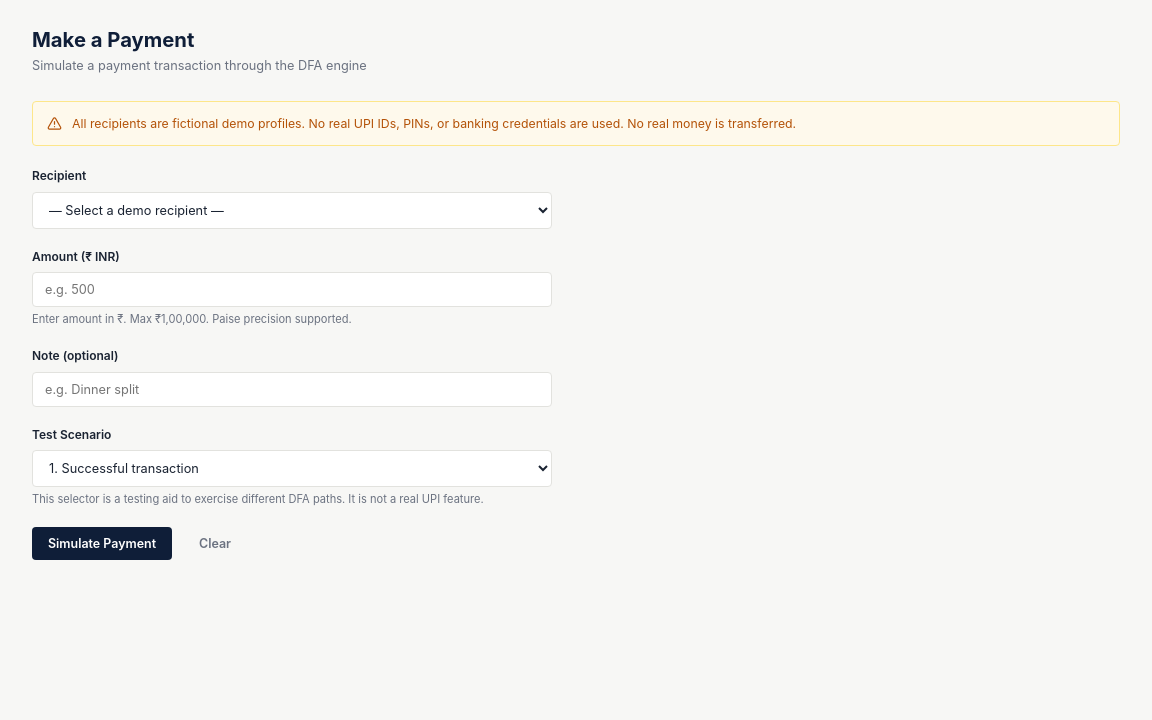
Payment form › shows failure result after failed transaction
Select "Alex Sharma (alex@demo)" in the dropdown labelled "Recipient". click: (292,210)
box: [32,192,552,228]
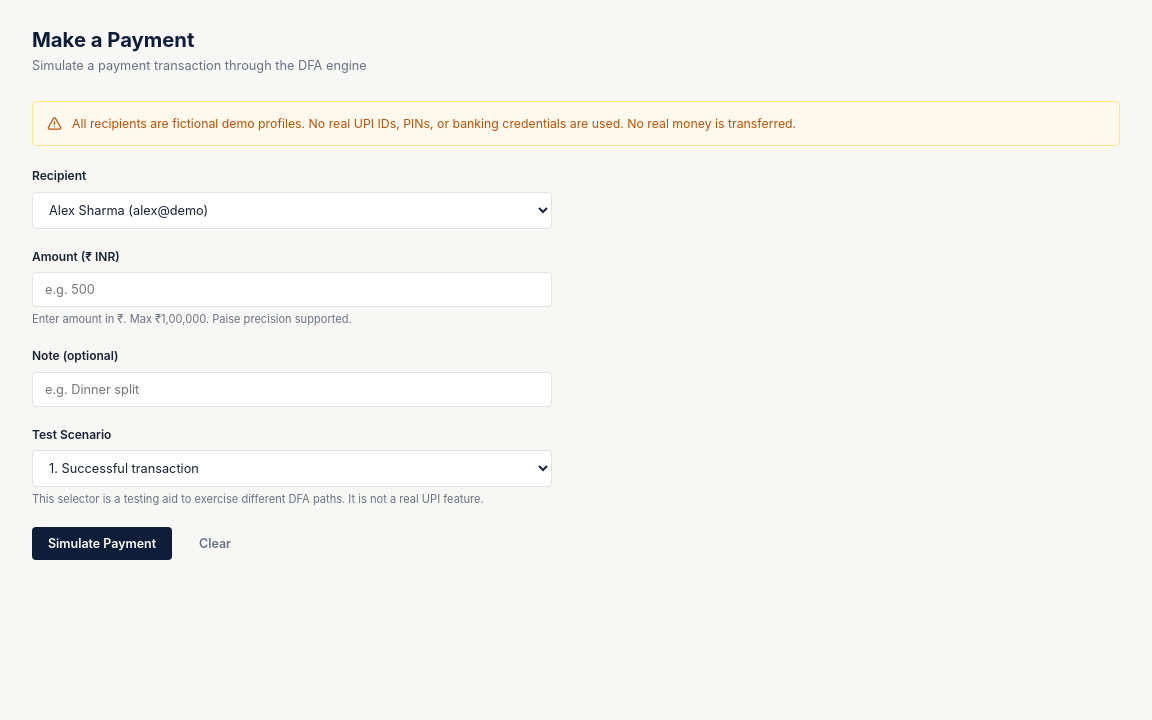
Type "100" into the number field labelled "Amount (₹ INR)". click: (292,289)
box: [32,272,552,307]
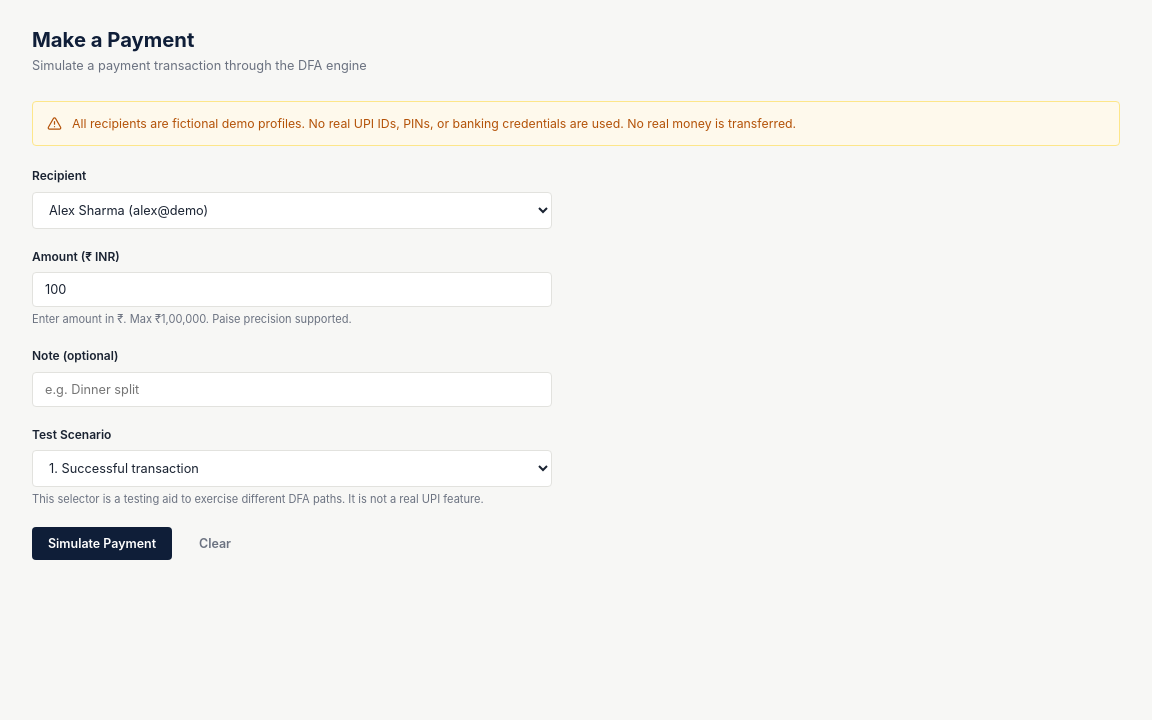
Select "4. Incorrect demo authentication" in the dropdown labelled "Test Scenario". click: (292,468)
box: [32,450,552,487]
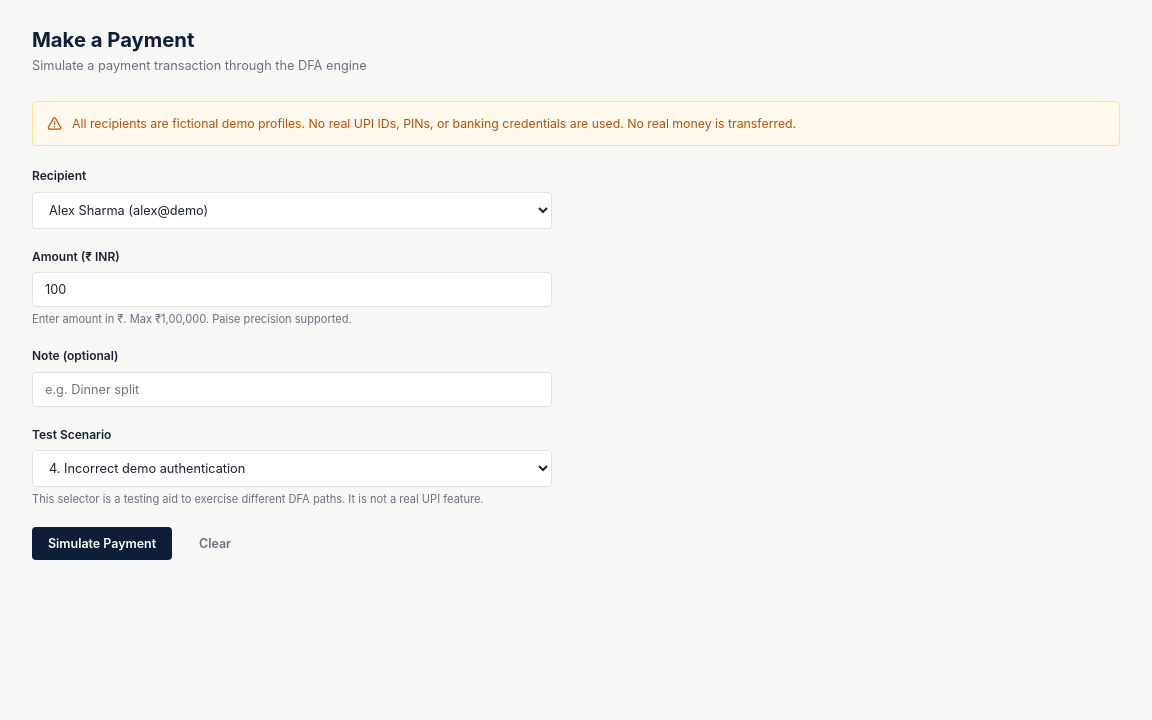
Click the button "Simulate Payment". click: (102,543)
box: [32,527,172,560]
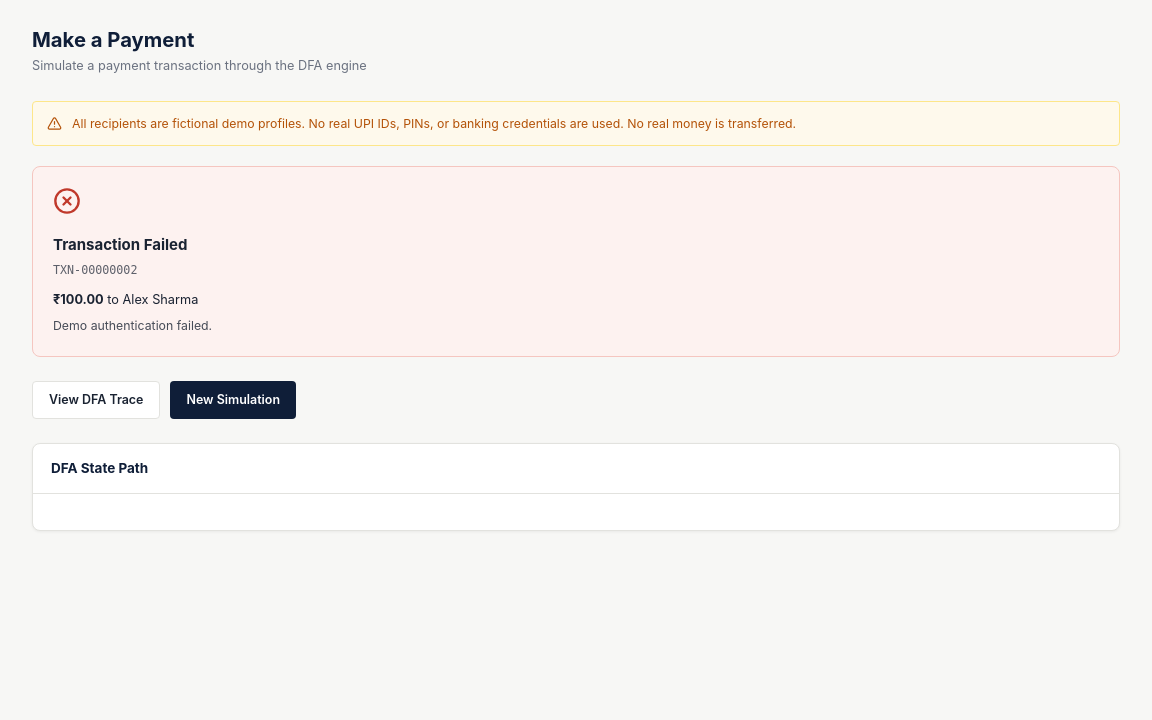
Expected: the text "Transaction Failed" is shown, [53,235,188,254]
